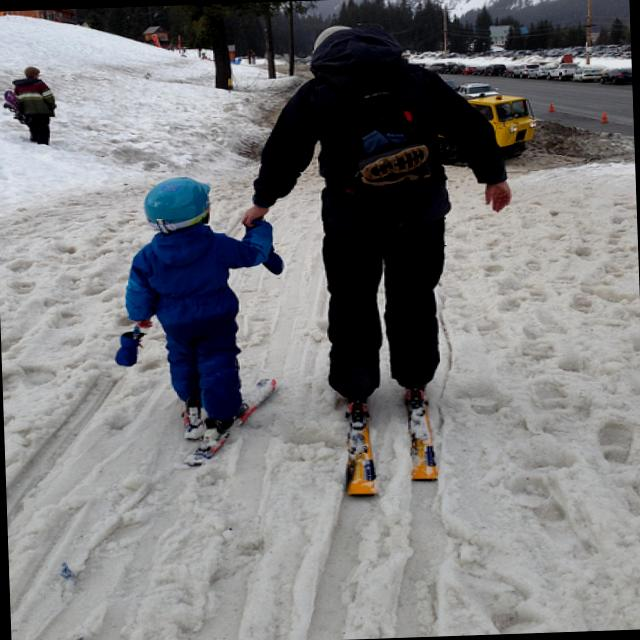Vehicle: (466, 90, 536, 156), (456, 81, 500, 100), (544, 62, 578, 81), (600, 66, 632, 84), (570, 68, 603, 82), (511, 64, 540, 78), (426, 62, 449, 74), (484, 64, 506, 76), (528, 66, 548, 78), (472, 64, 489, 75)
